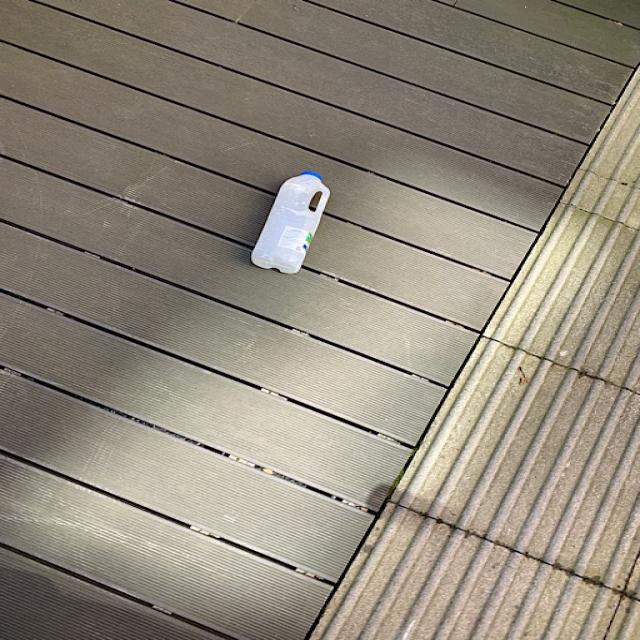litter: (250, 168, 335, 278)
